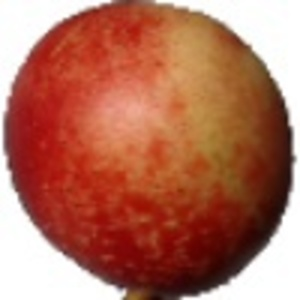nectarina: (2, 1, 296, 300)
